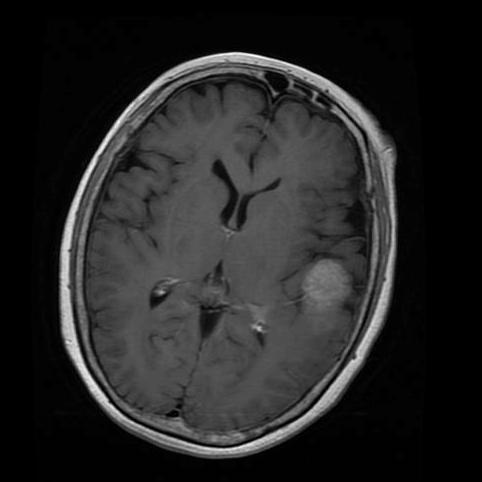Tumour-Meningioma: (271, 246, 375, 351)
